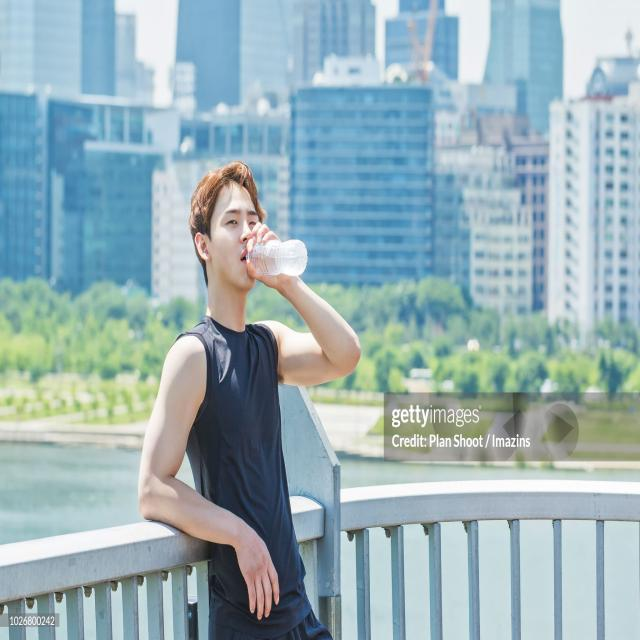bottle: (242, 239, 310, 278)
